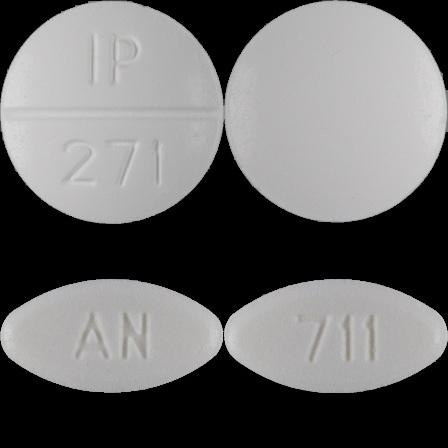68084-747: (0, 0, 224, 224)
